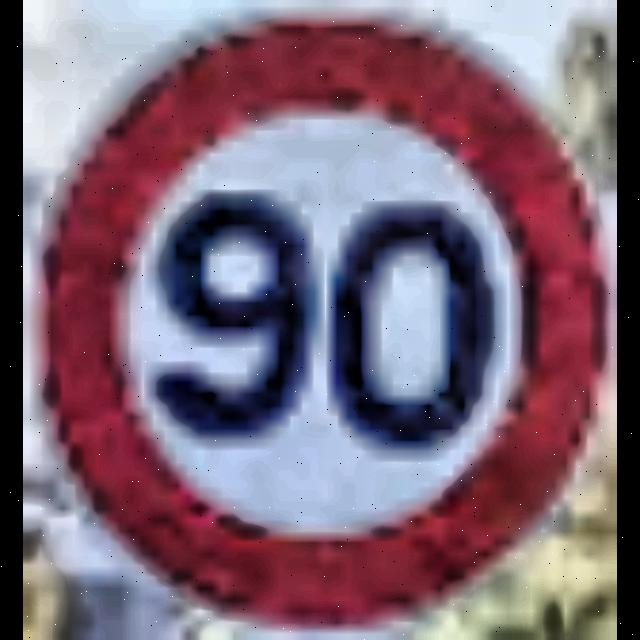speed_90: (23, 0, 597, 640)
